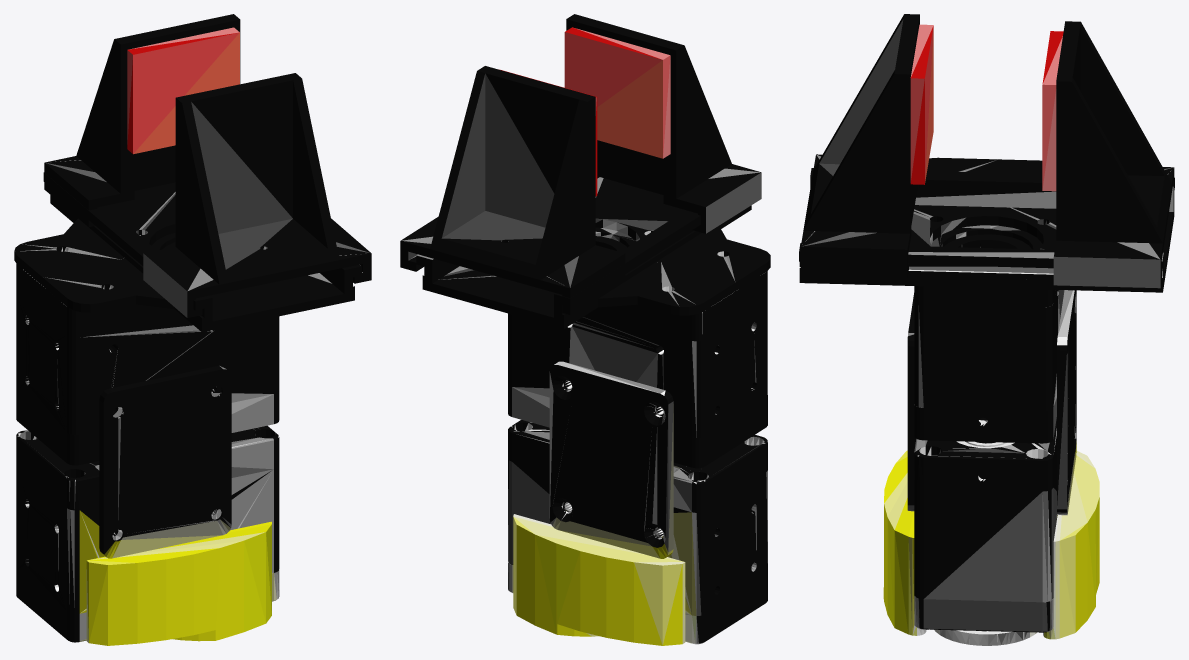
Rendered from HansCuteLink7.dae.
The picture shows the model from 3 angles, left to right: view 1: azimuth 30°, elevation 25°; view 2: azimuth 150°, elevation 25°; view 3: azimuth 270°, elevation 25°; orthographic projection. The views are drawn at different scales.
Visible parts, largest first — view 1: HansCuteLink7; view 2: HansCuteLink7; view 3: HansCuteLink7.
Boxes of the visible parts, x1=… form: HansCuteLink7: x1=14, y1=14, x2=371, y2=645; HansCuteLink7: x1=400, y1=14, x2=770, y2=645; HansCuteLink7: x1=799, y1=14, x2=1174, y2=645.
Bounding box in the file's own units: 0.0641 × 0.0738 × 0.1266.
